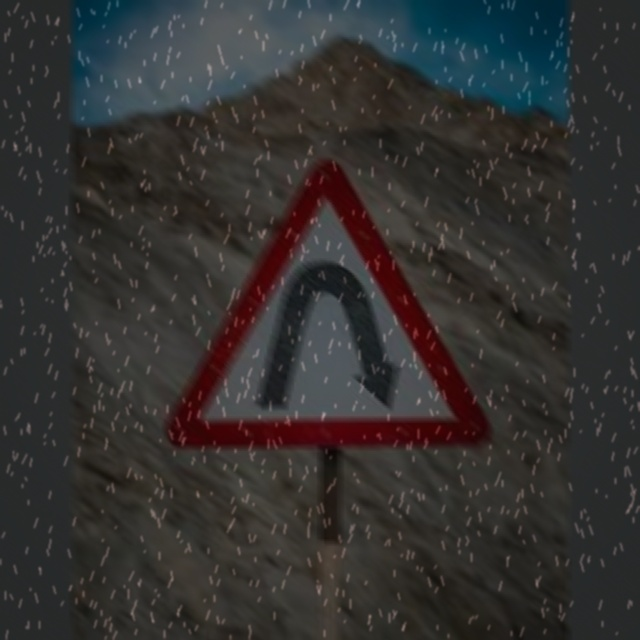Right_Hair_Pin_Bend: (188, 166, 488, 443)
